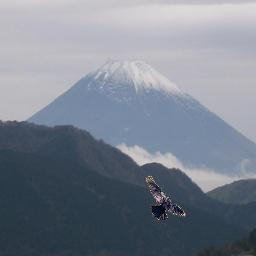Crow: (146, 174, 187, 221)
